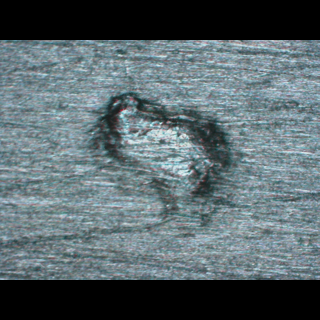d: (84, 82, 238, 226)
